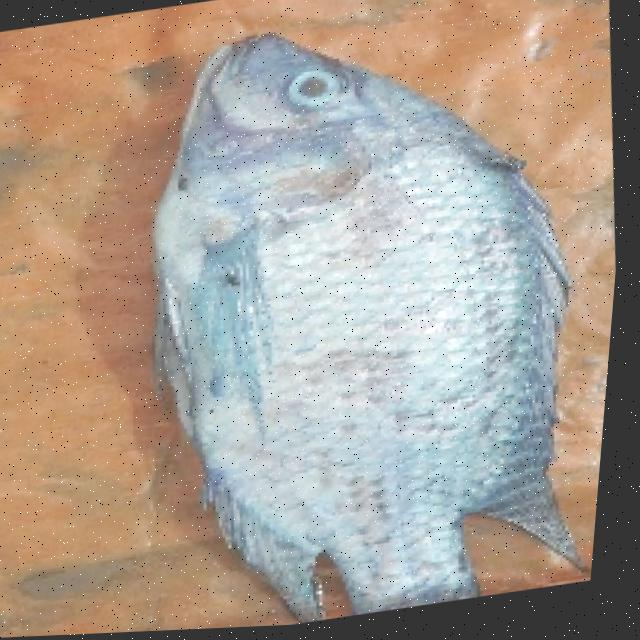Non-Fresh: (133, 110, 589, 563), (276, 57, 363, 130)
